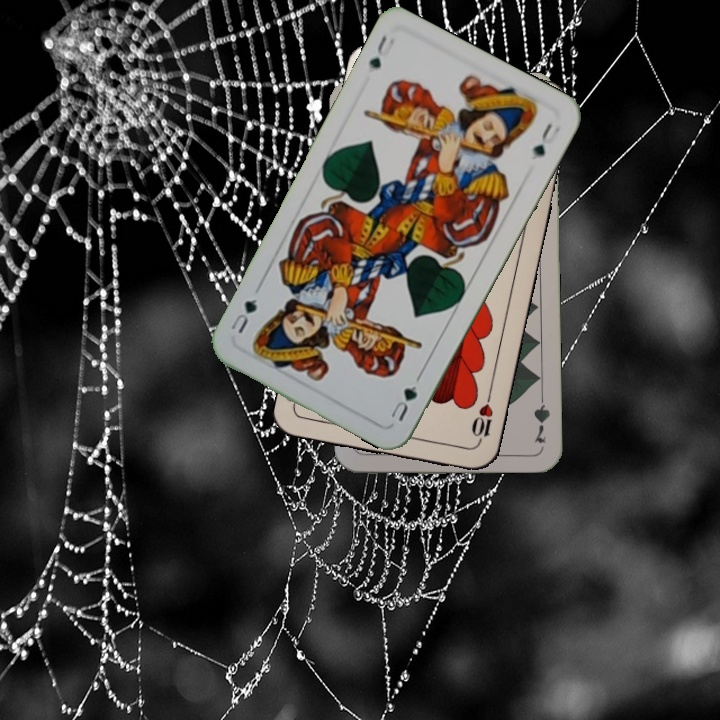G7: (530, 387, 553, 446)
GU: (386, 380, 420, 424), (365, 31, 397, 72)
H10: (467, 390, 496, 448)
